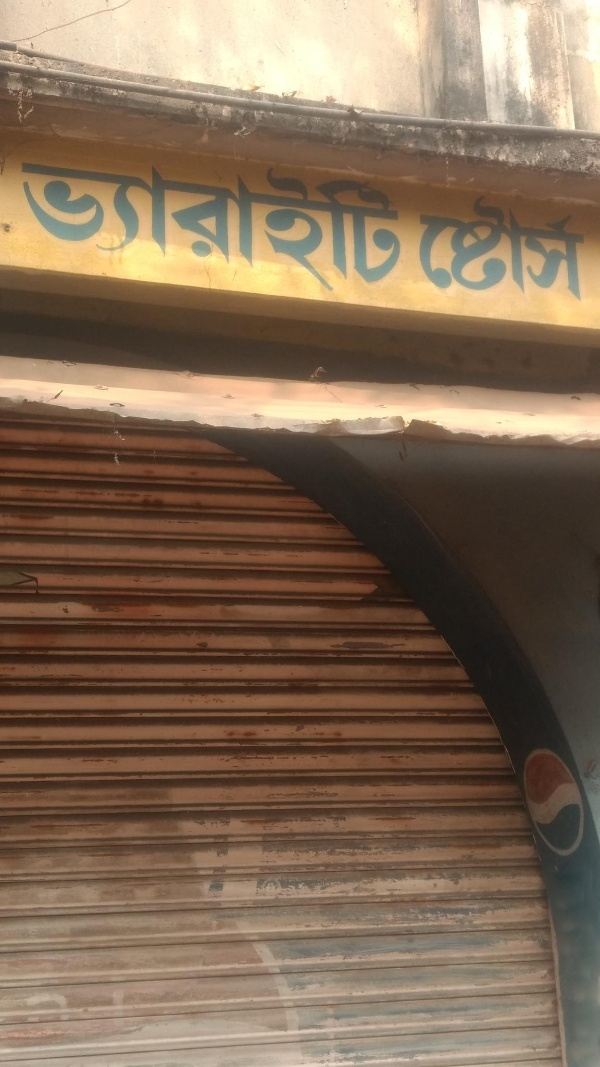text: (33, 133, 48, 301), (49, 133, 64, 301), (65, 133, 80, 301), (81, 133, 96, 301), (97, 133, 112, 301), (113, 133, 128, 301), (129, 133, 144, 301), (145, 133, 160, 301), (161, 133, 176, 301), (177, 133, 192, 301), (193, 133, 208, 301), (209, 133, 224, 301), (225, 133, 240, 301), (241, 133, 256, 301), (257, 133, 272, 301), (273, 133, 288, 301), (289, 133, 304, 301), (305, 133, 320, 301), (321, 133, 336, 301), (337, 133, 352, 301), (353, 133, 368, 301), (369, 133, 384, 301), (385, 133, 400, 301), (19, 133, 32, 301), (433, 189, 448, 303), (449, 189, 464, 303), (465, 189, 480, 303), (481, 189, 496, 303), (497, 189, 512, 303), (513, 189, 528, 303), (529, 189, 544, 303), (545, 189, 560, 303), (561, 189, 576, 303), (418, 189, 432, 303), (577, 189, 586, 303), (401, 133, 404, 301)
